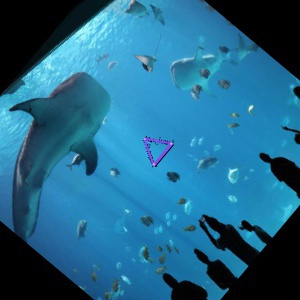triangle: (141, 134, 176, 169)
